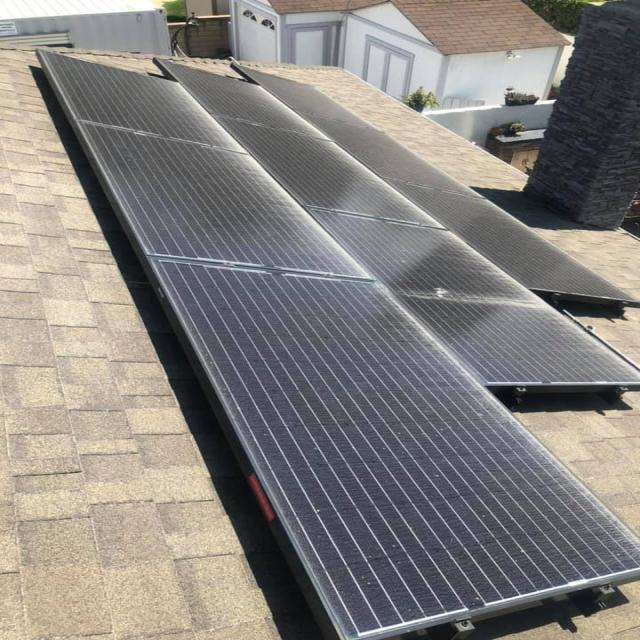dust-solar-panel: (38, 51, 638, 640)
